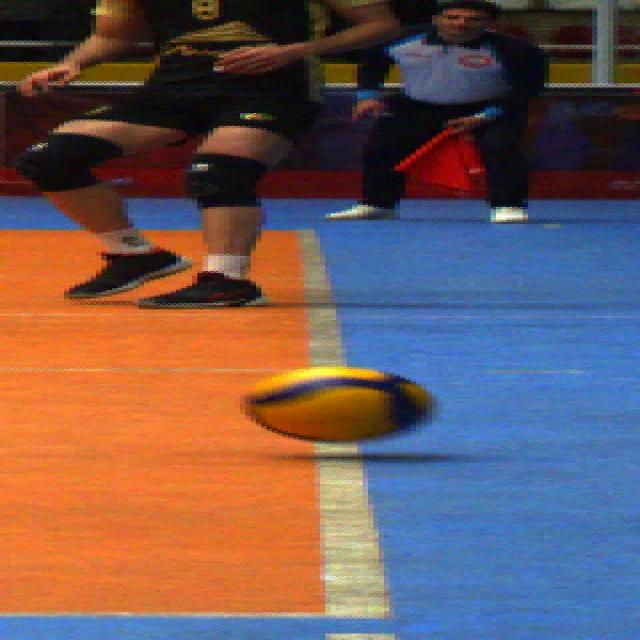Volleyball: (243, 366, 437, 442)
